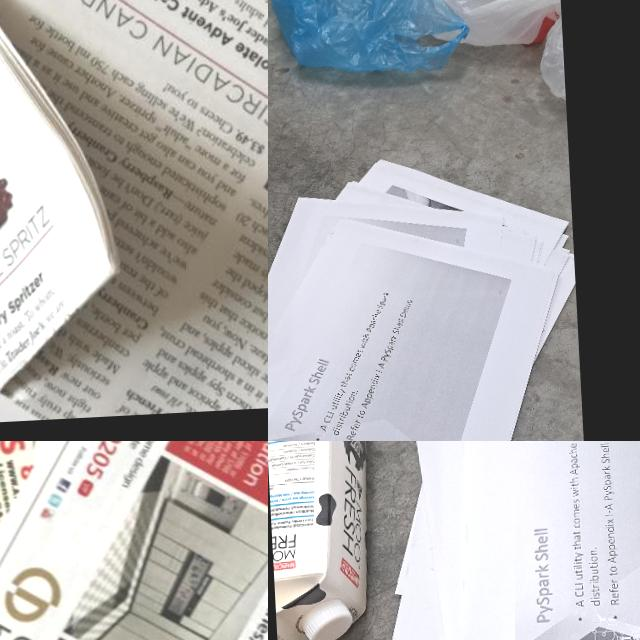caixinha: (268, 441, 384, 640), (300, 601, 352, 640)
papel: (0, 0, 268, 422), (268, 148, 592, 441), (368, 441, 640, 640), (0, 441, 268, 640)
sacola plástica: (268, 0, 469, 74), (421, 0, 563, 51), (536, 2, 566, 103)
